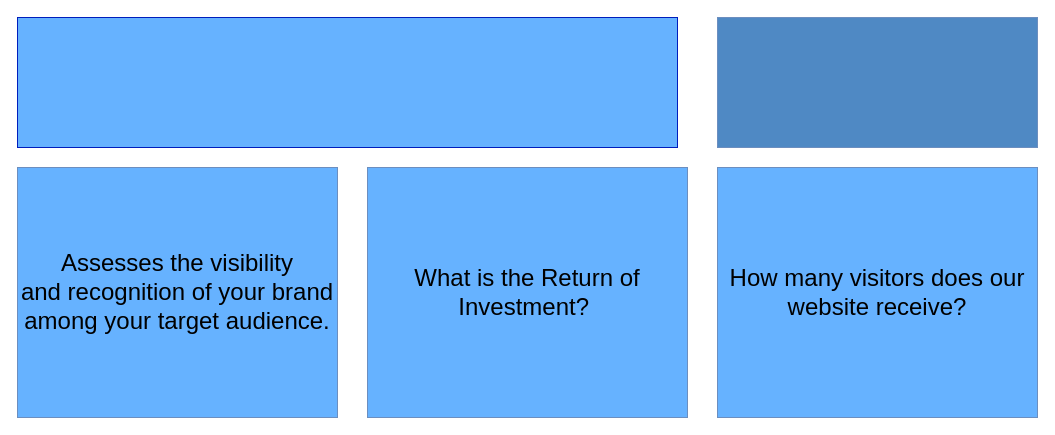
This 1055x435 diagram has some shape labels left out. Here are the shapes that lost their labels. From the top down, the centre of each, then its label:
pixel 347 82: DASHBOARD TITLE / Background
pixel 877 82: What is our Customer Acquisition Cost?
